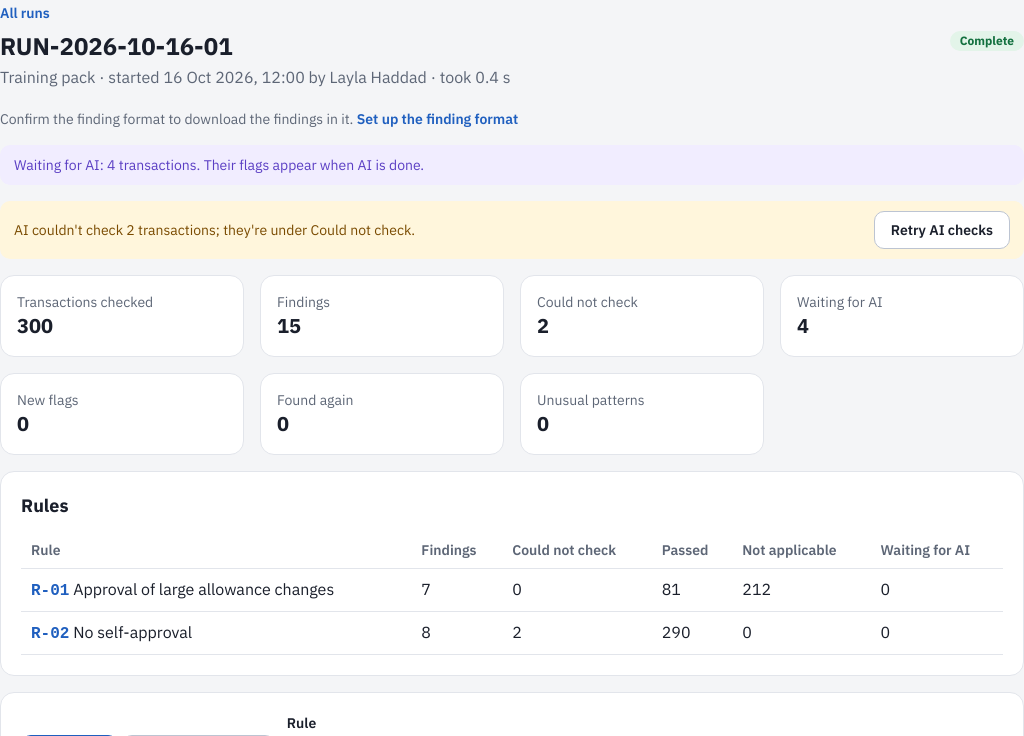
it: RunPage › shows AI checks waiting, and retries the ones AI failed
Expected: the text "Waiting for AI: 4 transactions. Their flags appear when AI is done." is shown, x1=0 y1=145 x2=1023 y2=185
Expected: the 2nd message shows "AI couldn't check 2 transactions; they're under Could not check.", x1=14 y1=221 x2=415 y2=239
Click the button "Retry AI checks": {"x": 942, "y": 230} x1=874 y1=211 x2=1010 y2=249
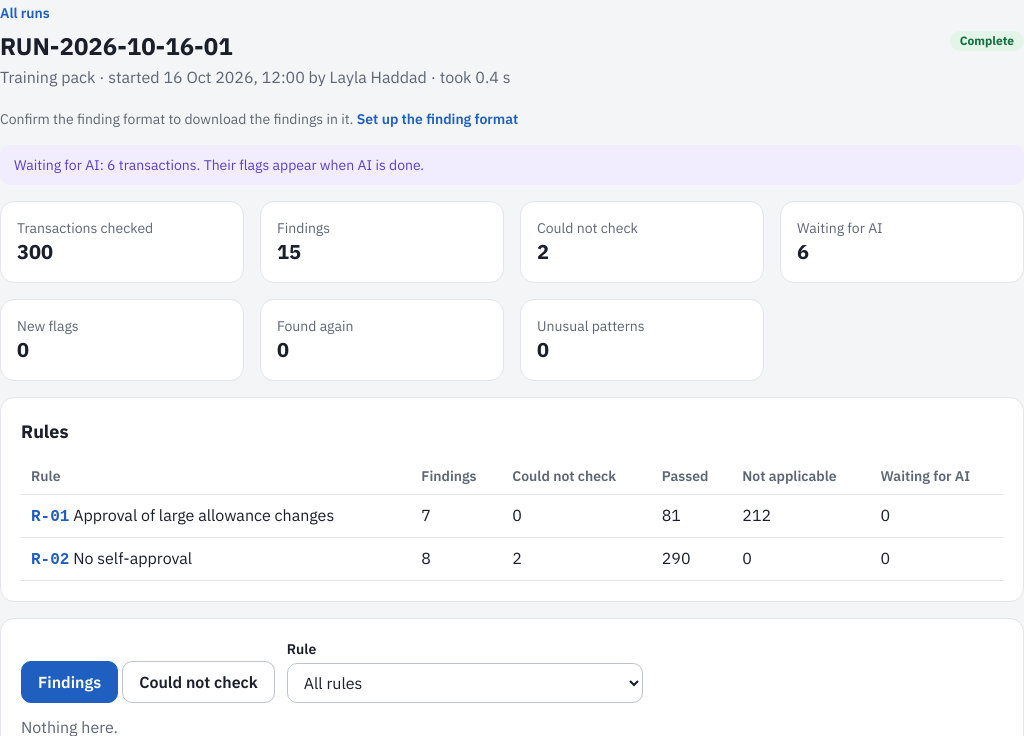
Expected: the text "Waiting for AI: 6 transactions. Their flags appear when AI is done." is shown, x1=0 y1=145 x2=1023 y2=185
